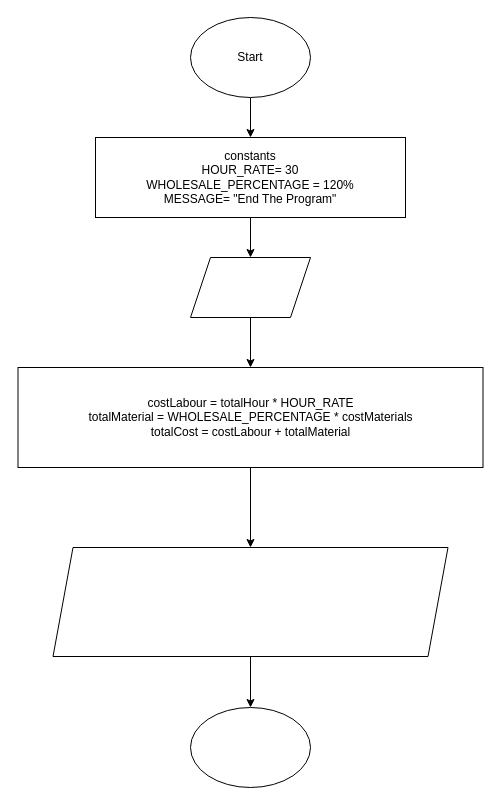
The diagram is 500 pixels wide and 805 high, and some of its shapes have lost their labels. The shapes that lost their labels are listed below. From the top down, each one's centre as x and y in pixels, then its label:
pixel 250 287: input totalHours costMaterials
pixel 250 601: output totalHours costLabour costMaterial ToalMaterial totalCost MESSAGE
